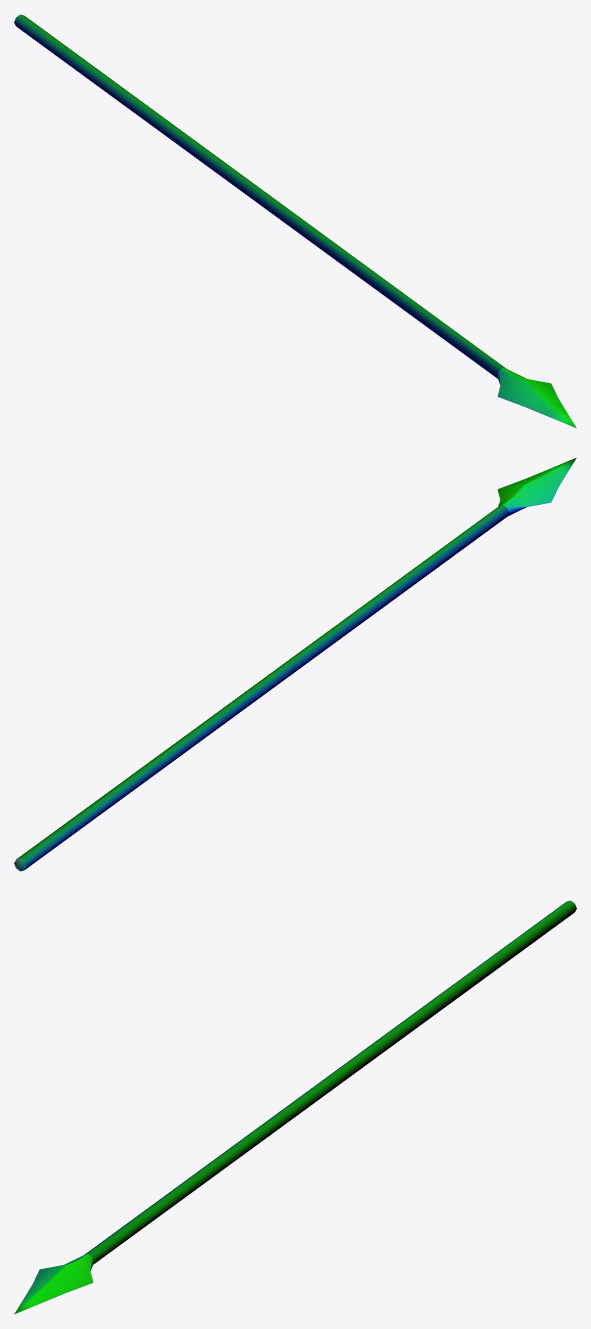
File: Robin_Arrow.fbx
3 views of the same model, one above another, from view 1: azimuth 30°, elevation 25°; view 2: azimuth 150°, elevation 25°; view 3: azimuth 330°, elevation 25° (orthographic).
Visible parts, largest first — view 1: robin_arrow; view 2: robin_arrow; view 3: robin_arrow.
Boxes of the visible parts, bbox=[...] form: robin_arrow: bbox=[14, 14, 576, 428]; robin_arrow: bbox=[14, 457, 576, 871]; robin_arrow: bbox=[14, 900, 576, 1314].
Bounding box in the file's own units: 1.14 × 0.441 × 20.41.
